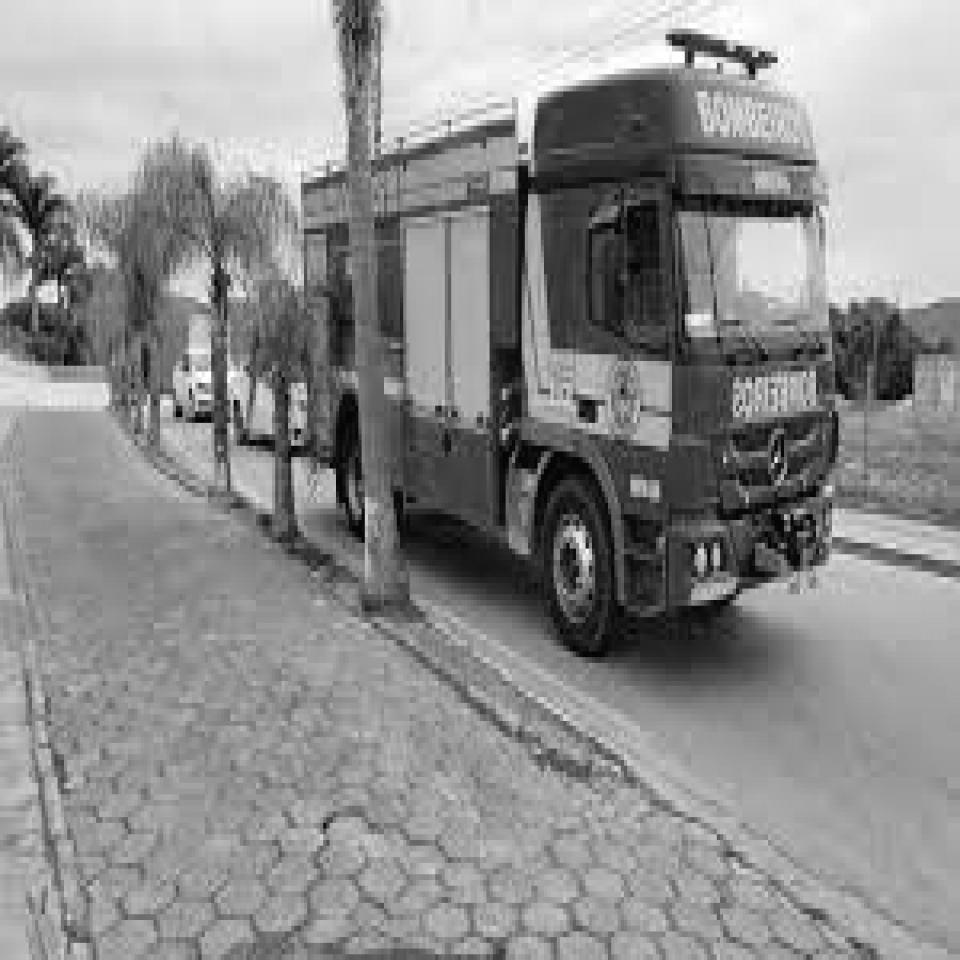bombeiro: (300, 27, 844, 668)
